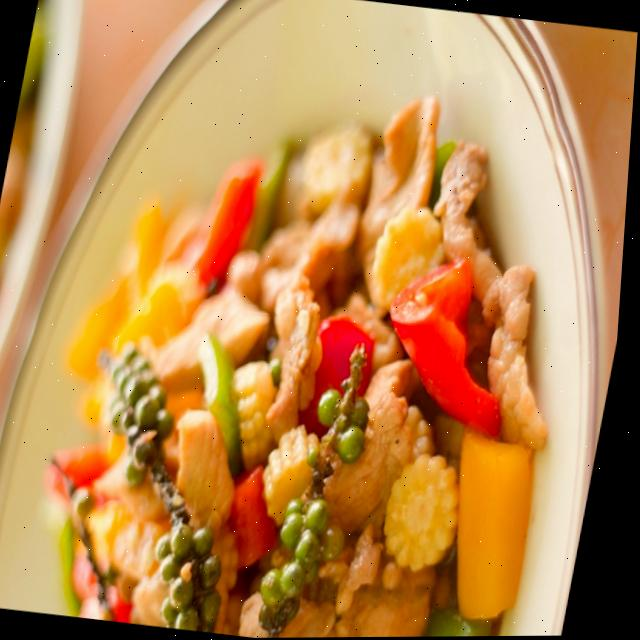蔬菜料理: (0, 60, 620, 640)
